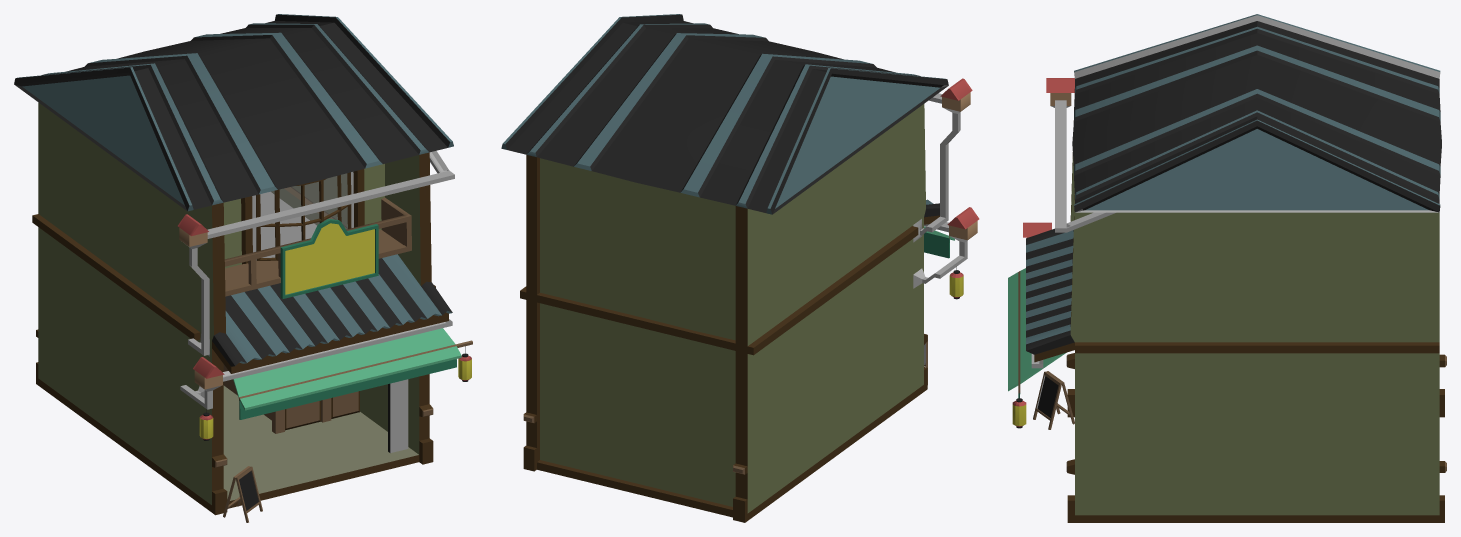
Rendered from Comercio_2.3.fbx.
3 views of the same model, side by side, from view 1: azimuth 30°, elevation 25°; view 2: azimuth 150°, elevation 25°; view 3: azimuth 270°, elevation 25° (orthographic). The views are drawn at different scales.
Visible parts, largest first — view 1: polySurface22; view 2: polySurface22; view 3: polySurface22.
Part boxes in pixels (x1,y1,x2,y2): polySurface22: [14, 14, 472, 522]; polySurface22: [501, 14, 979, 522]; polySurface22: [1008, 14, 1446, 522].
Size of the model in its own units: 8.24 by 10.83 by 10.77.
